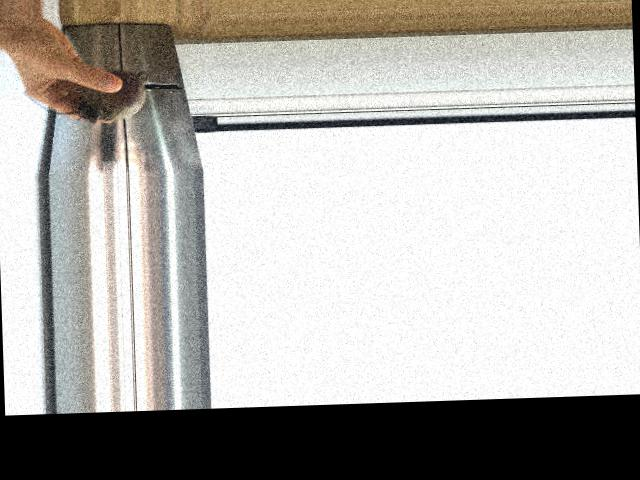beet: (24, 68, 158, 125)
